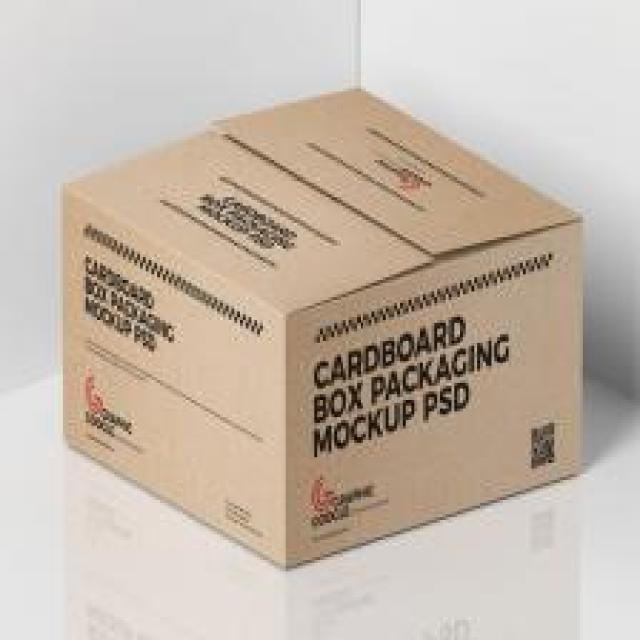box: (72, 60, 553, 592)
crushed: (269, 121, 525, 237)
